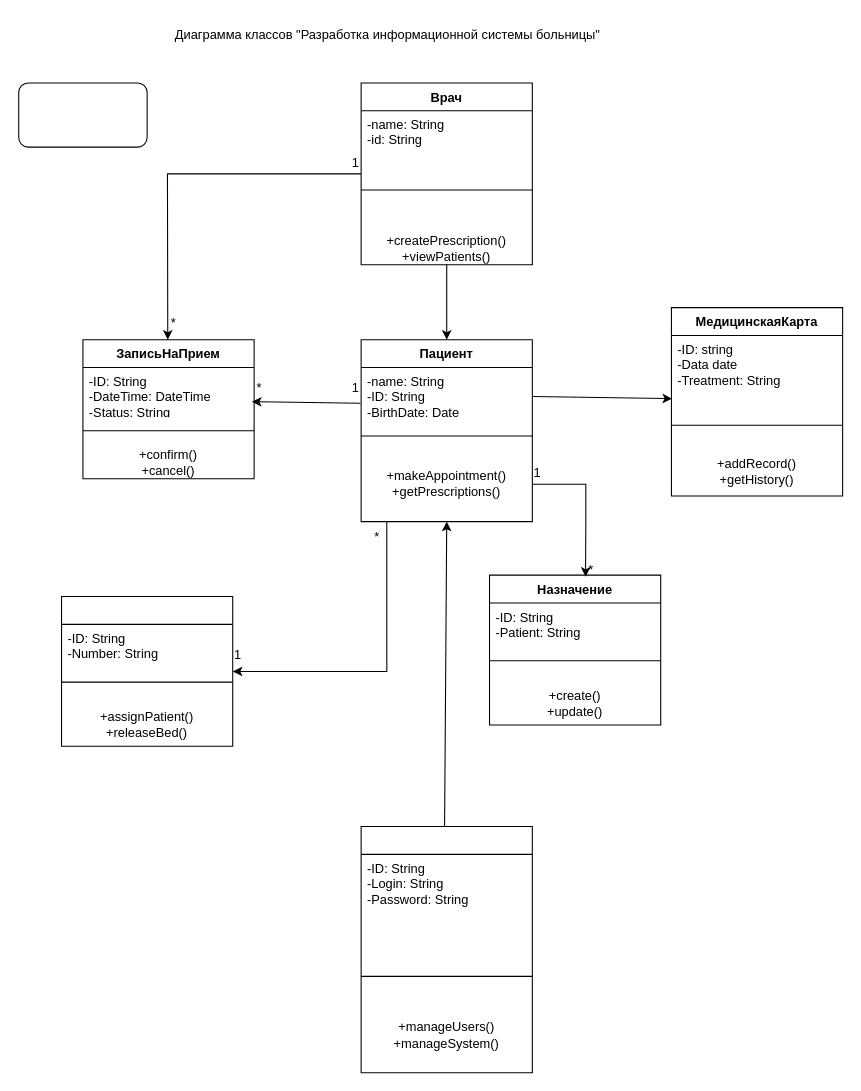
The diagram is 861 pixels wide and 1091 high, and some of its shapes have lost their labels. Each missing label, with the box of its shape:
Админ: (360, 826, 532, 1073)
Палата: (60, 595, 233, 746)
Пациент Врач Админ: (18, 82, 147, 147)
